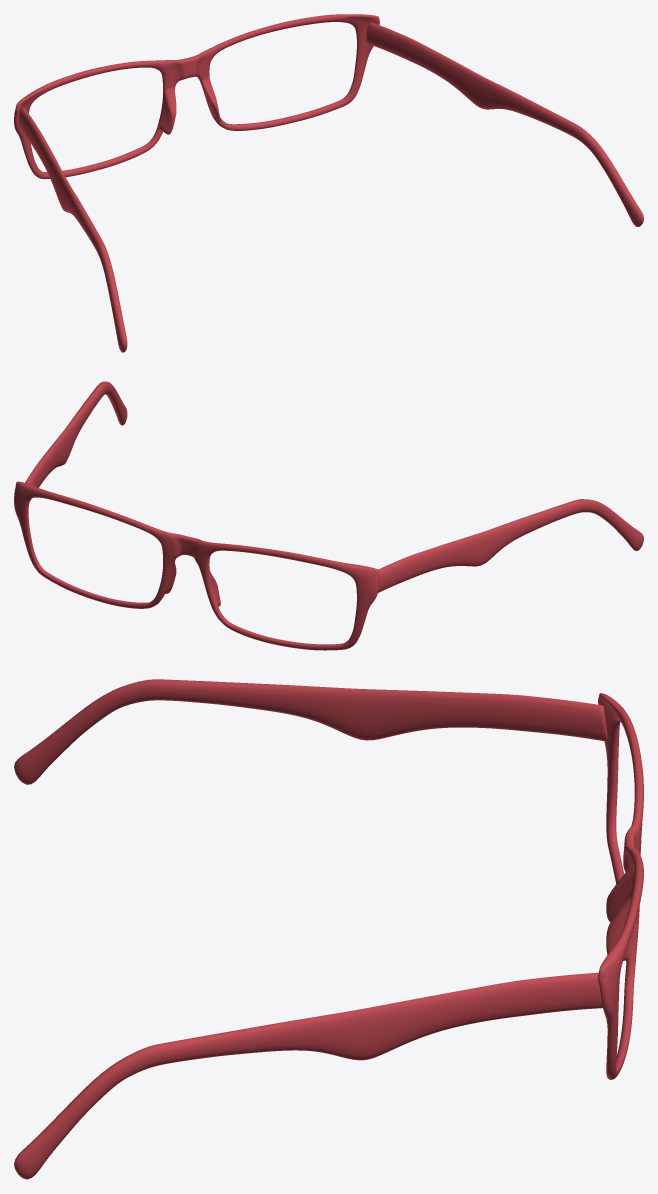
Rendered from marc.fbx.
3 views of the same model, one above another, from view 1: azimuth 30°, elevation 25°; view 2: azimuth 150°, elevation 25°; view 3: azimuth 270°, elevation 25° (orthographic). The views are drawn at different scales.
Visible parts, largest first — view 1: frame.001; view 2: frame.001; view 3: frame.001.
Boxes of the visible parts, x1,y1,x2,y2 form: frame.001: [14, 14, 643, 352]; frame.001: [14, 381, 643, 650]; frame.001: [14, 679, 643, 1179].
Size of the model in its own units: 18.36 by 3.43 by 12.2.
